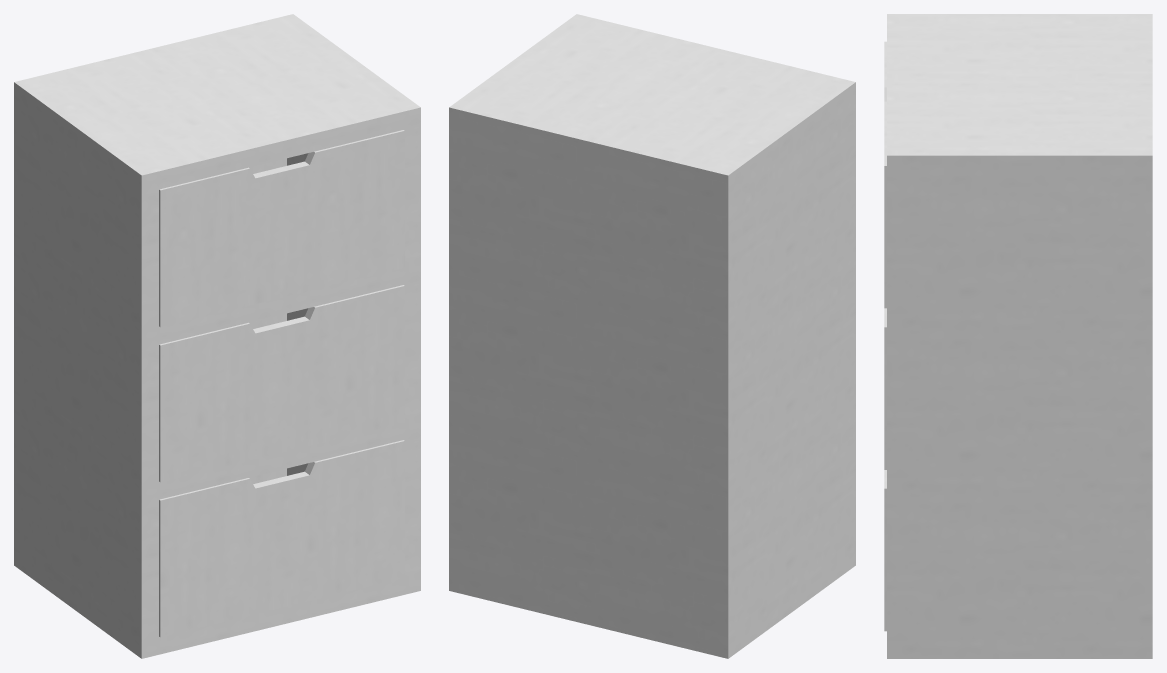
File: Drawer19.fbx
3 renders of one model, left to right at view 1: azimuth 30°, elevation 25°; view 2: azimuth 150°, elevation 25°; view 3: azimuth 270°, elevation 25°, orthographic. The views are drawn at different scales.
Visible parts, largest first — view 1: Drawer19_Body, Drawer19_1, Drawer19_2, Drawer19_3; view 2: Drawer19_Body; view 3: Drawer19_Body, Drawer19_1, Drawer19_2, Drawer19_3.
Part boxes in pixels (x1,y1,x2,y2): Drawer19_Body: (14,14,420,658); Drawer19_1: (159,130,404,327); Drawer19_2: (159,285,404,482); Drawer19_3: (159,440,404,637); Drawer19_Body: (449,14,855,658); Drawer19_Body: (887,14,1152,658); Drawer19_1: (884,41,886,308); Drawer19_2: (884,308,886,469); Drawer19_3: (884,470,886,631).
Size of the model in its own units: 35.36 by 58.51 by 28.29.
